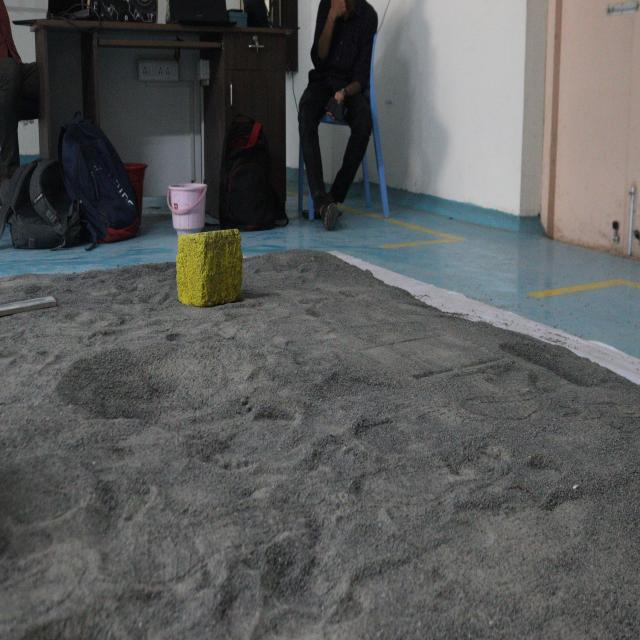box: (177, 228, 248, 310)
crater: (62, 335, 250, 436)
